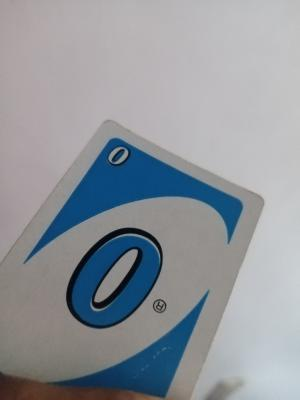blue: (41, 156, 190, 386)
num_0: (103, 136, 134, 169)
